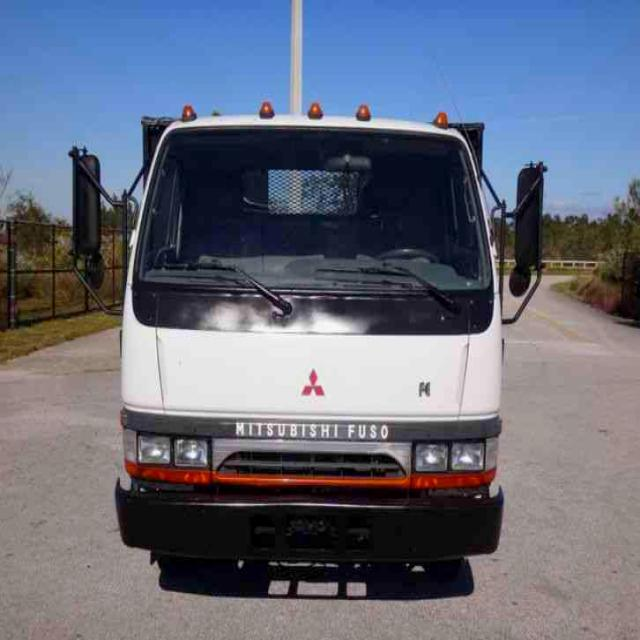truck: (75, 102, 543, 582)
